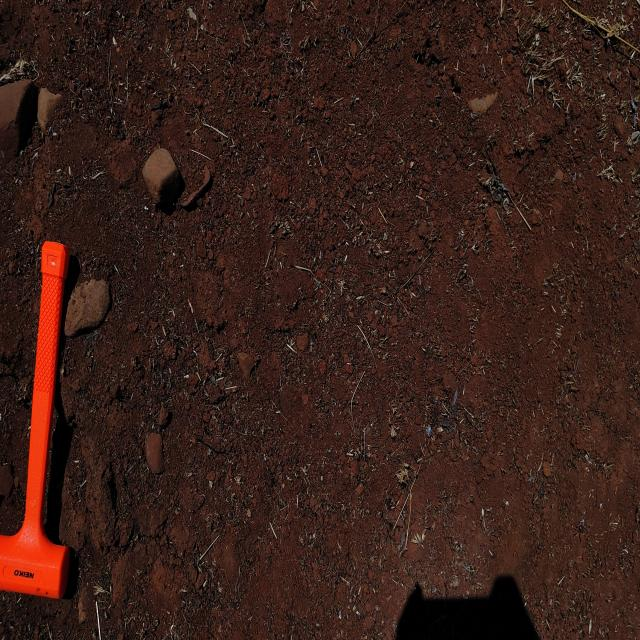Orange_hammer: (0, 239, 72, 600)
